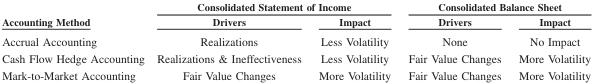table: (1, 0, 590, 81)
table column: (150, 0, 309, 81), (1, 0, 150, 81), (398, 0, 509, 81), (309, 0, 398, 81), (509, 0, 590, 81)
table column header: (1, 0, 590, 30)
table row: (1, 30, 590, 49), (1, 13, 590, 30), (1, 49, 590, 66), (1, 66, 590, 81), (1, 0, 590, 13)
table spanning cell: (1, 0, 150, 30), (150, 0, 398, 13), (398, 0, 590, 13)
